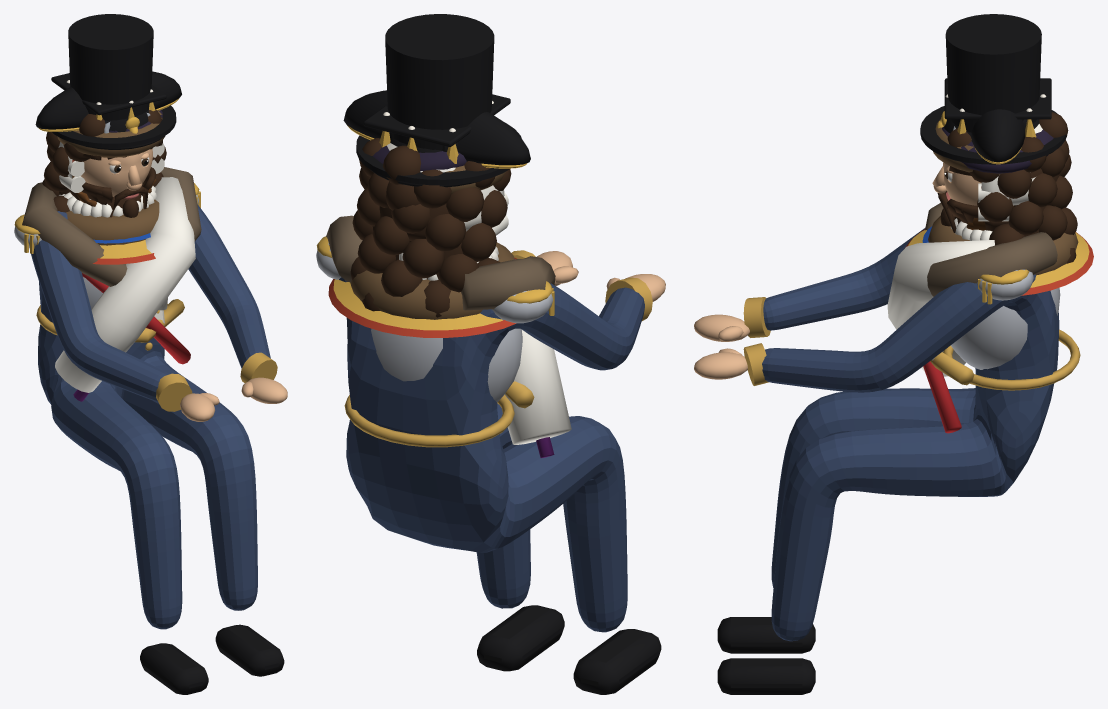
File: passenger.glb
The picture shows the model from 3 angles, left to right: view 1: azimuth 30°, elevation 25°; view 2: azimuth 150°, elevation 25°; view 3: azimuth 270°, elevation 25°; orthographic projection. The views are drawn at different scales.
Visible parts, largest first — view 1: Body, Hat_TopHat, Costume_Toga, Costume_Shawl, Hair_Curly, Hat_Bicorne, HeadMesh, Costume_FurCollar, Costume_Military, Costume_Usekh, Hat_Fur, Costume_Ruff (+6 smaller); view 2: Body, Hair_Curly, Hat_TopHat, Costume_Armour, Costume_Shawl, Costume_Toga, Hat_Bicorne, Costume_Usekh, Costume_FurCollar, Costume_Dress, Hat_Scholar, Hat_Beret (+2 smaller); view 3: Body, Hat_TopHat, Hair_Curly, Costume_Shawl, Costume_Armour, Costume_Toga, Hat_Bicorne, Costume_Military, Costume_Usekh, Costume_Dress, Hat_Scholar, HeadMesh (+3 smaller).
Part boxes in pixels (x1,y1,x2,y2): Body: (29,204,287,694); Hat_TopHat: (52,14,176,147); Costume_Toga: (55,177,195,401); Costume_Shawl: (22,167,201,286); Hair_Curly: (42,109,166,212); Hat_Bicorne: (35,71,181,131); HeadMesh: (81,148,153,196); Costume_FurCollar: (66,199,159,245); Costume_Military: (14,183,200,364); Costume_Usekh: (93,233,155,264); Hat_Fur: (57,111,165,157); Costume_Ruff: (59,186,156,217); Body: (339,250,665,694); Hair_Curly: (350,138,511,317); Hat_TopHat: (356,14,521,185); Costume_Armour: (316,243,553,402); Costume_Shawl: (326,215,555,310); Costume_Toga: (504,330,571,458); Hat_Bicorne: (343,90,530,168); Costume_Usekh: (328,257,516,337); Costume_FurCollar: (350,242,514,319); Costume_Dress: (344,394,514,447); Hat_Scholar: (363,94,510,151); Hat_Beret: (373,145,466,171); Body: (694,228,1059,694); Hat_TopHat: (920,14,1066,164); Hair_Curly: (947,112,1077,263); Costume_Shawl: (925,203,1057,296); Costume_Armour: (951,269,1060,369); Costume_Toga: (887,240,994,376); Hat_Bicorne: (971,109,1025,164); Costume_Military: (923,269,1029,433); Costume_Usekh: (904,226,1093,295); Costume_Dress: (943,329,1080,390); Hat_Scholar: (944,78,1051,129); HeadMesh: (932,162,981,205).
Bounding box in the file's own units: 0.5431 × 1.58 × 0.898.
